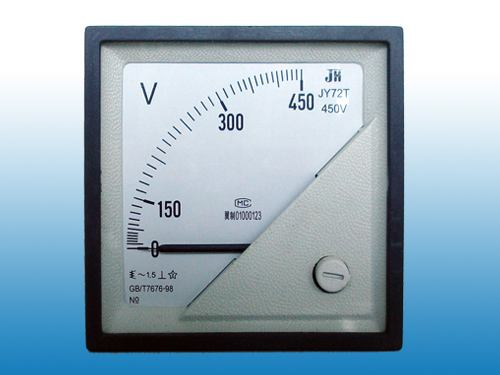pointer: (100, 41, 386, 333)
